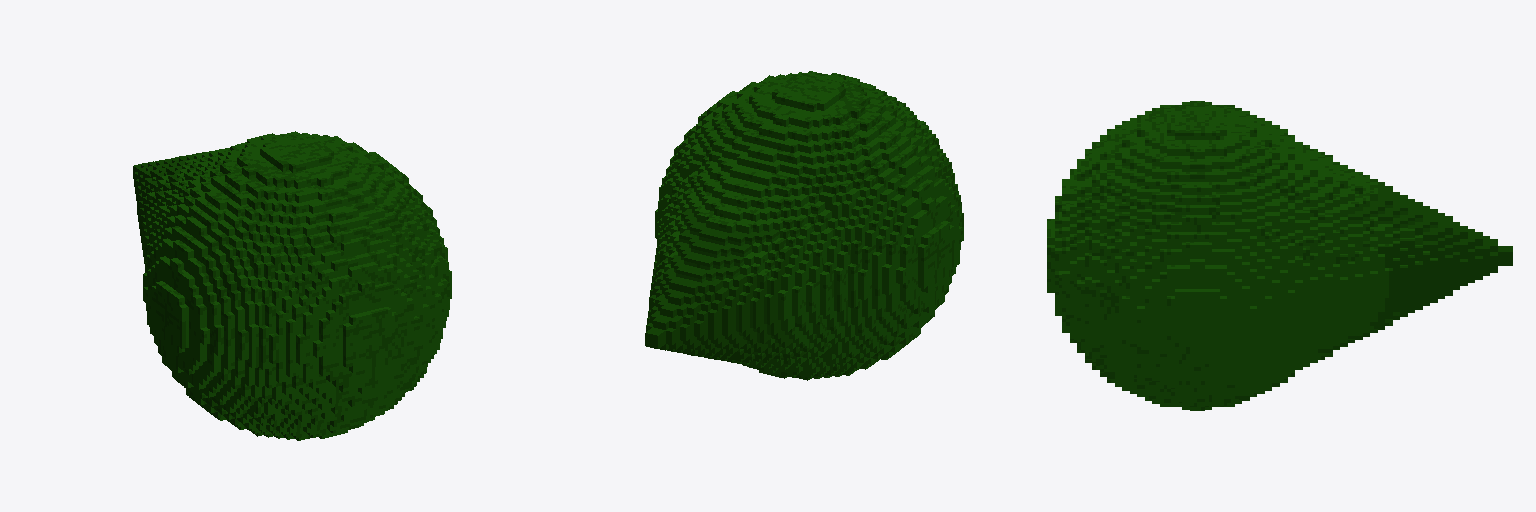
The picture shows the model from 3 angles: view 1: azimuth 30°, elevation 25°; view 2: azimuth 150°, elevation 25°; view 3: azimuth 270°, elevation 25°; orthographic projection.
Parts seen in each view (by area): view 1: stunBall; view 2: stunBall; view 3: stunBall.
Part boxes in pixels (bbox=[...]): stunBall: bbox=[133, 131, 451, 440]; stunBall: bbox=[645, 71, 963, 380]; stunBall: bbox=[1047, 101, 1512, 410].
Bounding box in the file's own units: 80 × 80 × 124.
Materials: 1 (1 with a texture image).